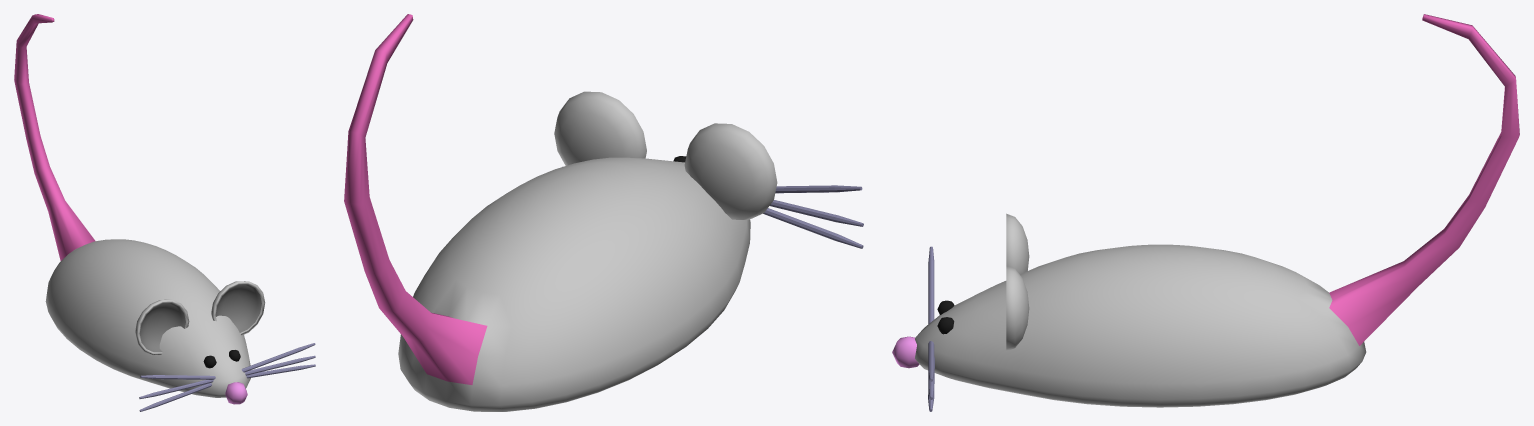
Rendered from mouse.fbx.
The picture shows the model from 3 angles, left to right: view 1: azimuth 30°, elevation 25°; view 2: azimuth 150°, elevation 25°; view 3: azimuth 270°, elevation 25°; orthographic projection. The views are drawn at different scales.
Visible parts, largest first — view 1: Mouse; view 2: Mouse; view 3: Mouse.
Part boxes in pixels (left/top/right/bottom): Mouse: left=14, top=14, right=315, bottom=411; Mouse: left=344, top=14, right=863, bottom=411; Mouse: left=892, top=14, right=1519, bottom=411.
Size of the model in its own units: 252 by 346 by 557.
